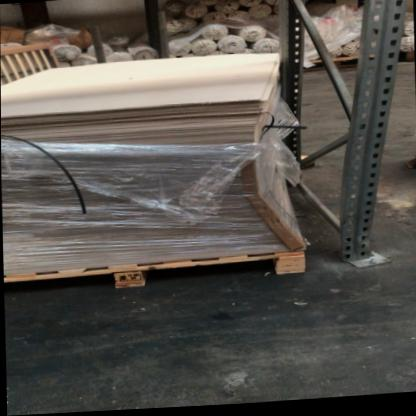vertical_damage: (336, 226, 401, 279)
